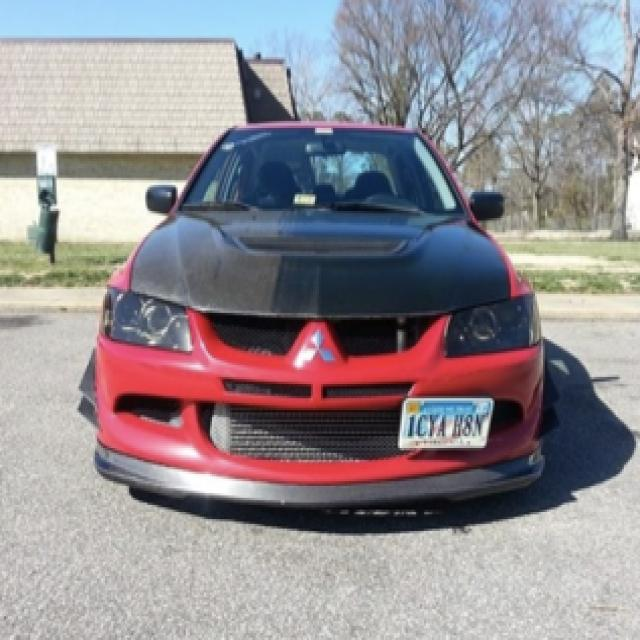license_plate: (404, 400, 488, 450)
